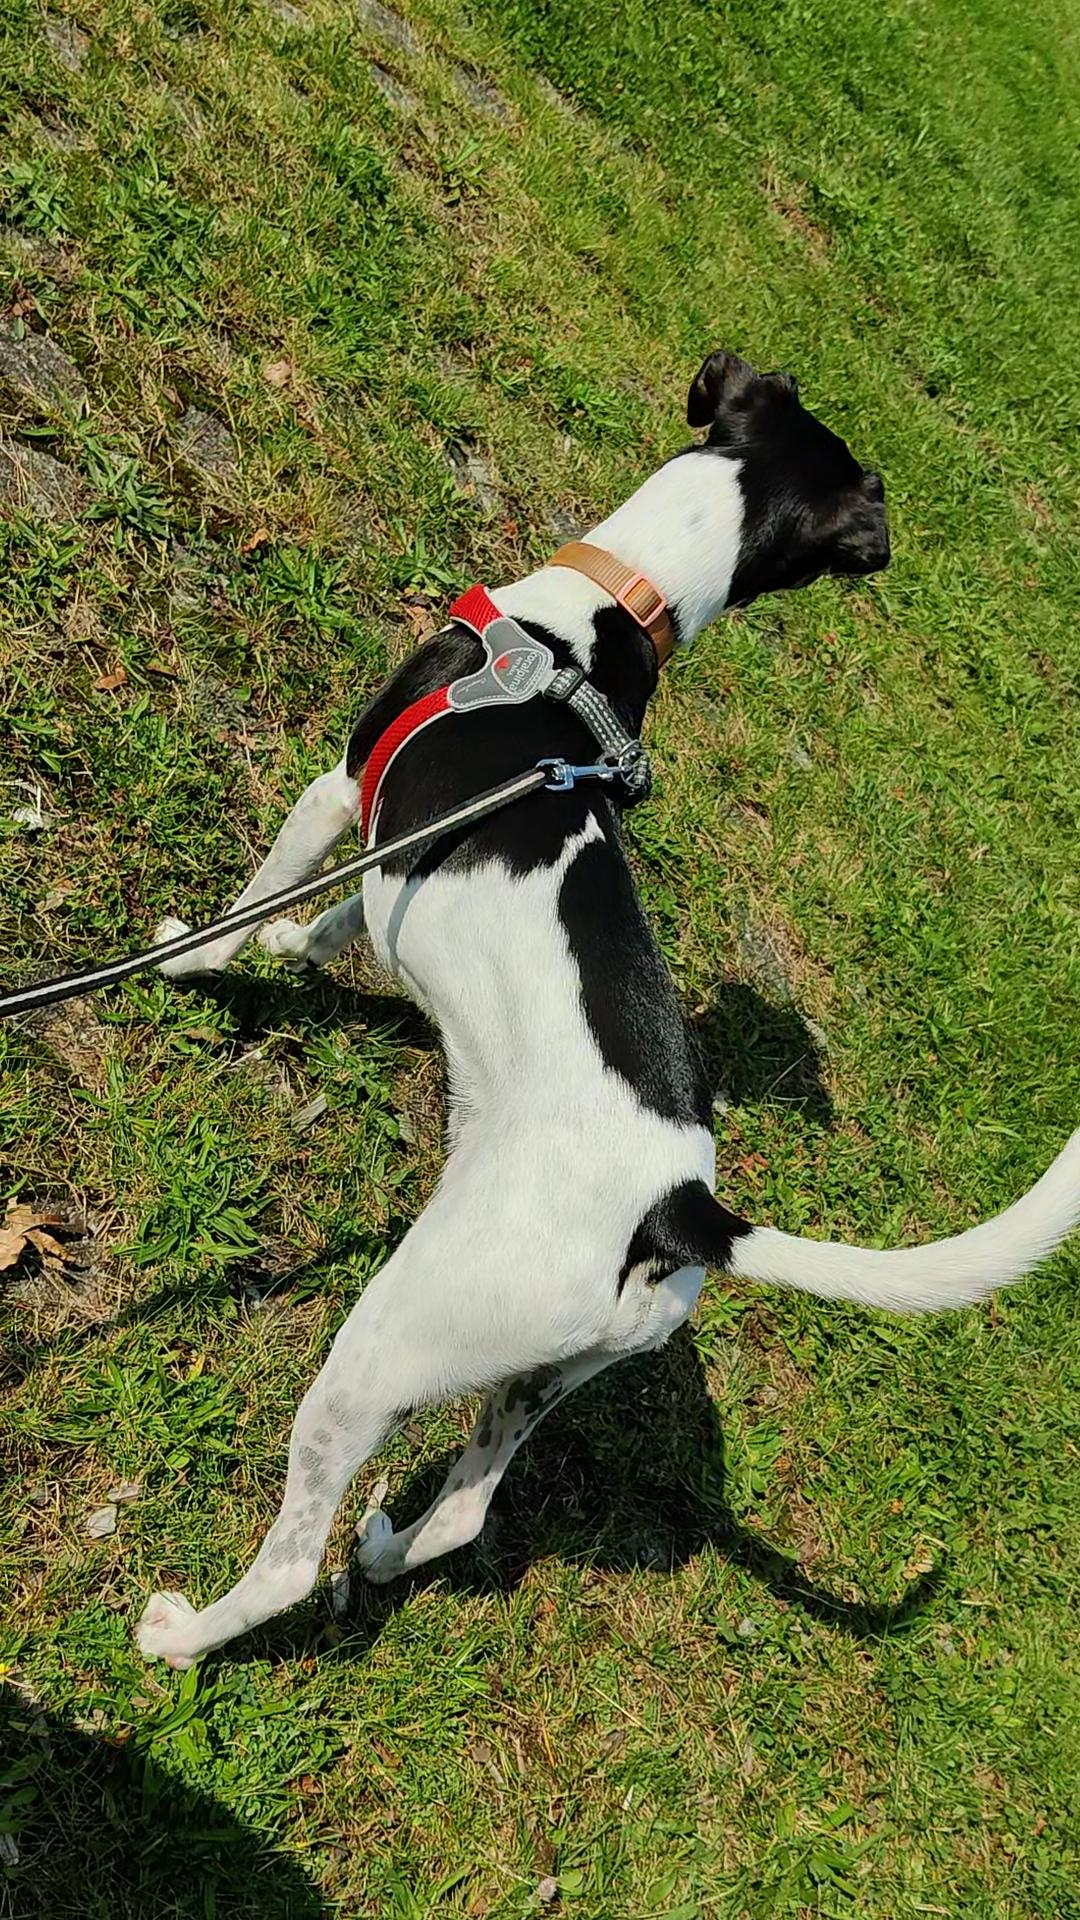Dog: (131, 342, 1079, 1679)
